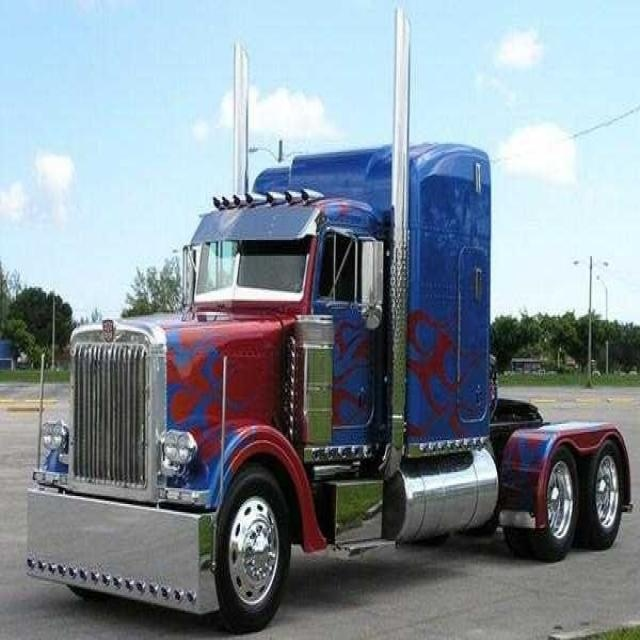Truck: (12, 126, 639, 640)
